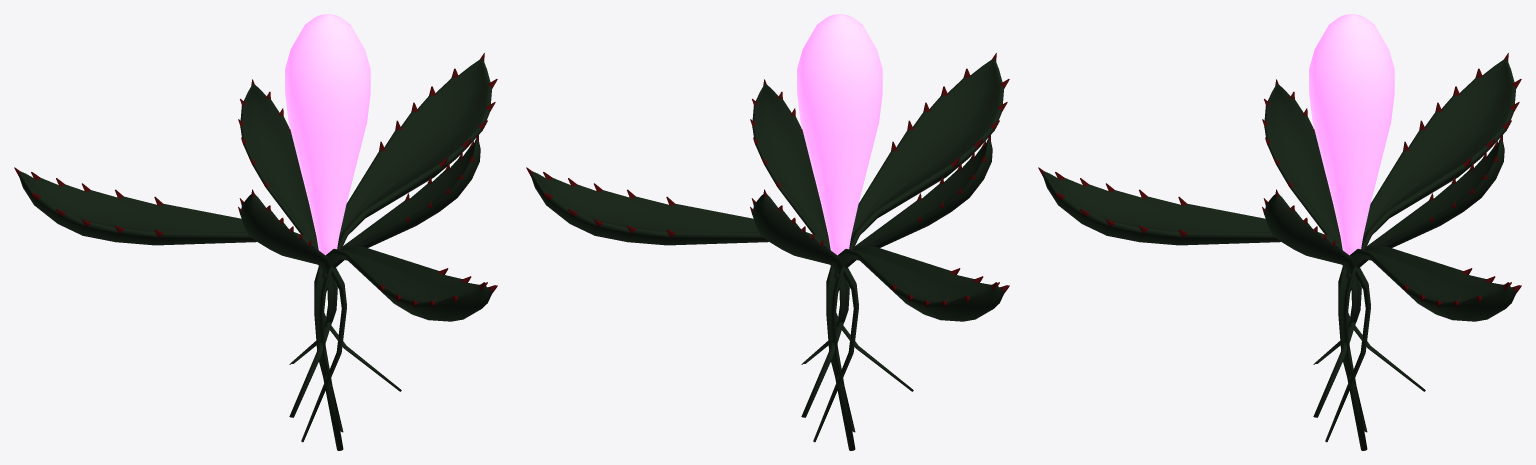
File: Plant_04_open_LP.FBX
3 views of the same model, side by side, from view 1: azimuth 30°, elevation 25°; view 2: azimuth 150°, elevation 25°; view 3: azimuth 270°, elevation 25° (orthographic).
Visible parts, largest first — view 1: Plant_04_open_LP; view 2: Plant_04_open_LP; view 3: Plant_04_open_LP.
Part boxes in pixels (x1,y1,x2,y2): Plant_04_open_LP: (14,14,497,450); Plant_04_open_LP: (526,14,1009,450); Plant_04_open_LP: (1038,14,1521,450).
Bounding box in the file's own units: 501 × 446 × 434.
